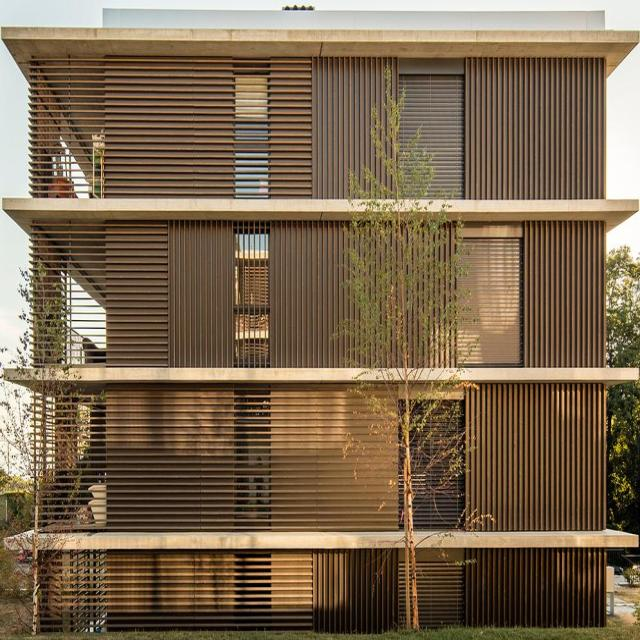window: (234, 229, 269, 362), (232, 70, 268, 194)
